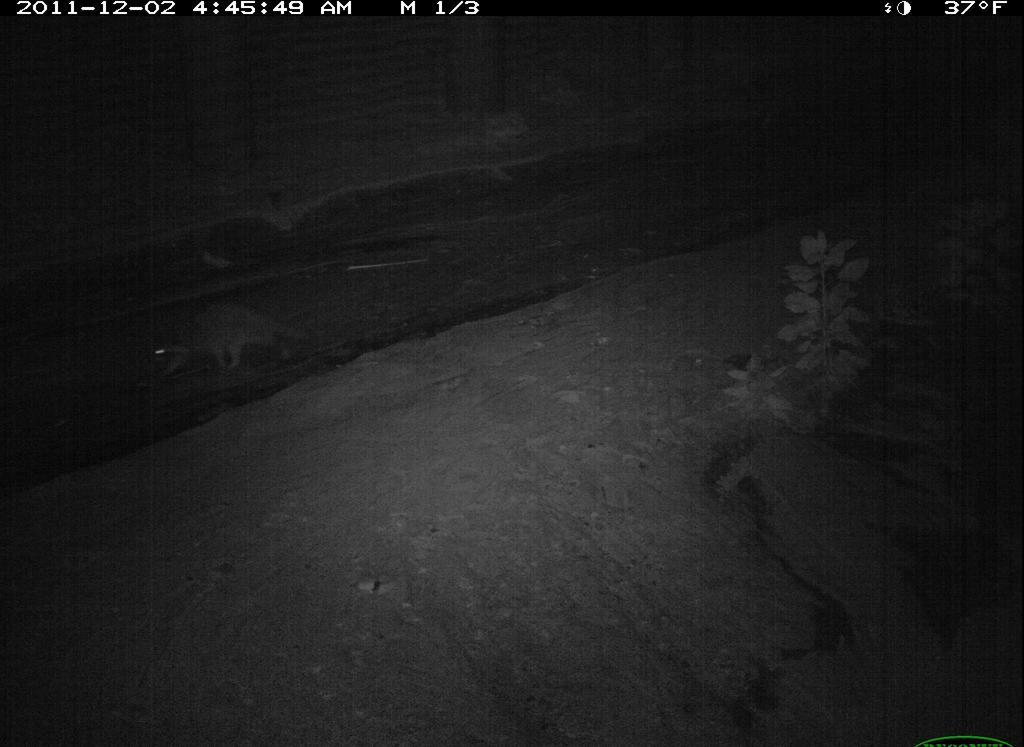raccoon: (126, 285, 305, 392)
